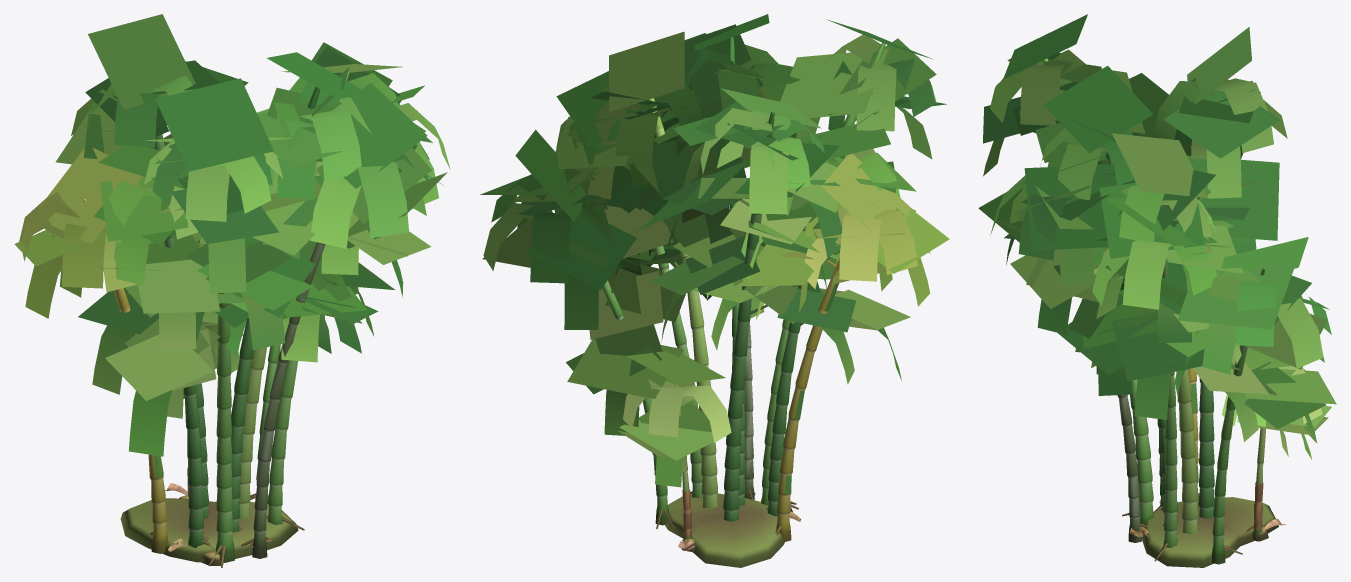
File: tree-stand-grove-v0.glb
The picture shows the model from 3 angles, left to right: view 1: azimuth 30°, elevation 25°; view 2: azimuth 150°, elevation 25°; view 3: azimuth 270°, elevation 25°; orthographic projection. The views are drawn at different scales.
Parts seen in each view (by area): view 1: culmLeaf, culm; view 2: culmLeaf, culm; view 3: culmLeaf, culm.
Boxes of the visible parts, x1,y1,x2,y2 form: culmLeaf: [14, 14, 450, 456]; culm: [83, 72, 349, 567]; culmLeaf: [480, 14, 949, 487]; culm: [602, 37, 885, 567]; culmLeaf: [978, 14, 1336, 459]; culm: [1040, 48, 1285, 567].
Bounding box in the file's own units: 6.87 × 7.7 × 5.28.
